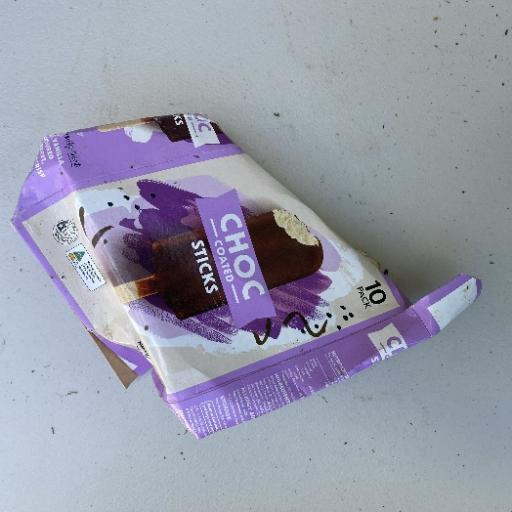Cardboard: (10, 110, 482, 440)
